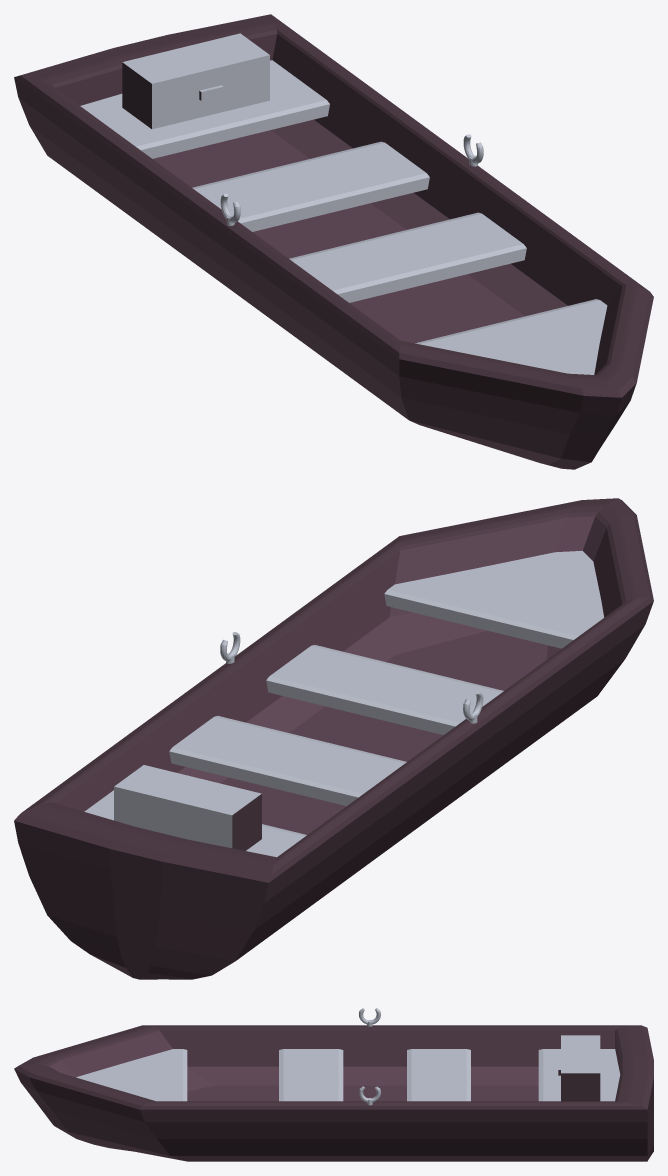
Rendered from BetterRowBoat.fbx.
The picture shows the model from 3 angles, top to bottom: view 1: azimuth 30°, elevation 25°; view 2: azimuth 150°, elevation 25°; view 3: azimuth 270°, elevation 25°; orthographic projection. The views are drawn at different scales.
Visible parts, largest first — view 1: Cube; view 2: Cube; view 3: Cube.
Boxes of the visible parts, x1=… form: Cube: x1=14, y1=14, x2=653, y2=469; Cube: x1=14, y1=498, x2=653, y2=979; Cube: x1=14, y1=1008, x2=653, y2=1161.
Size of the model in its own units: 215 by 125 by 710.
